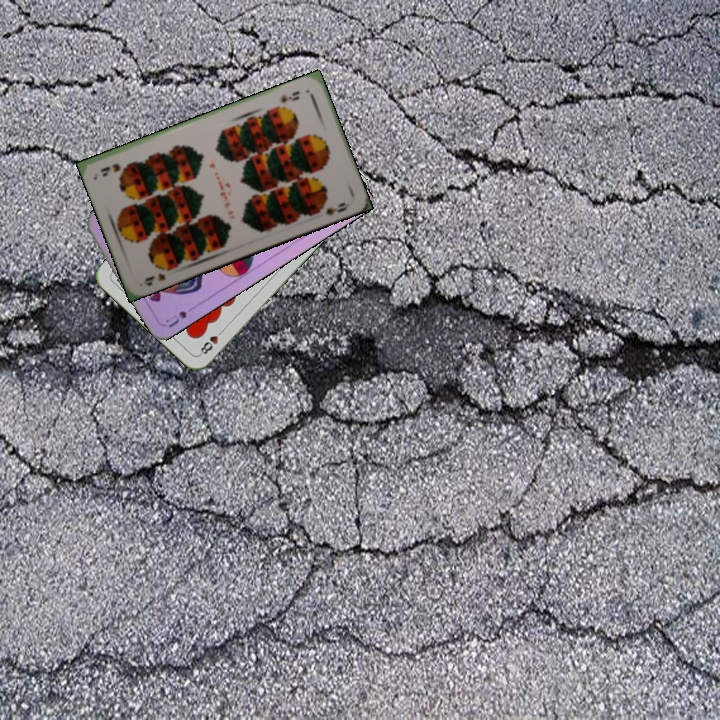H8: (196, 325, 227, 358)
S9: (141, 261, 176, 288), (277, 87, 302, 105)
SU: (162, 301, 199, 330)
